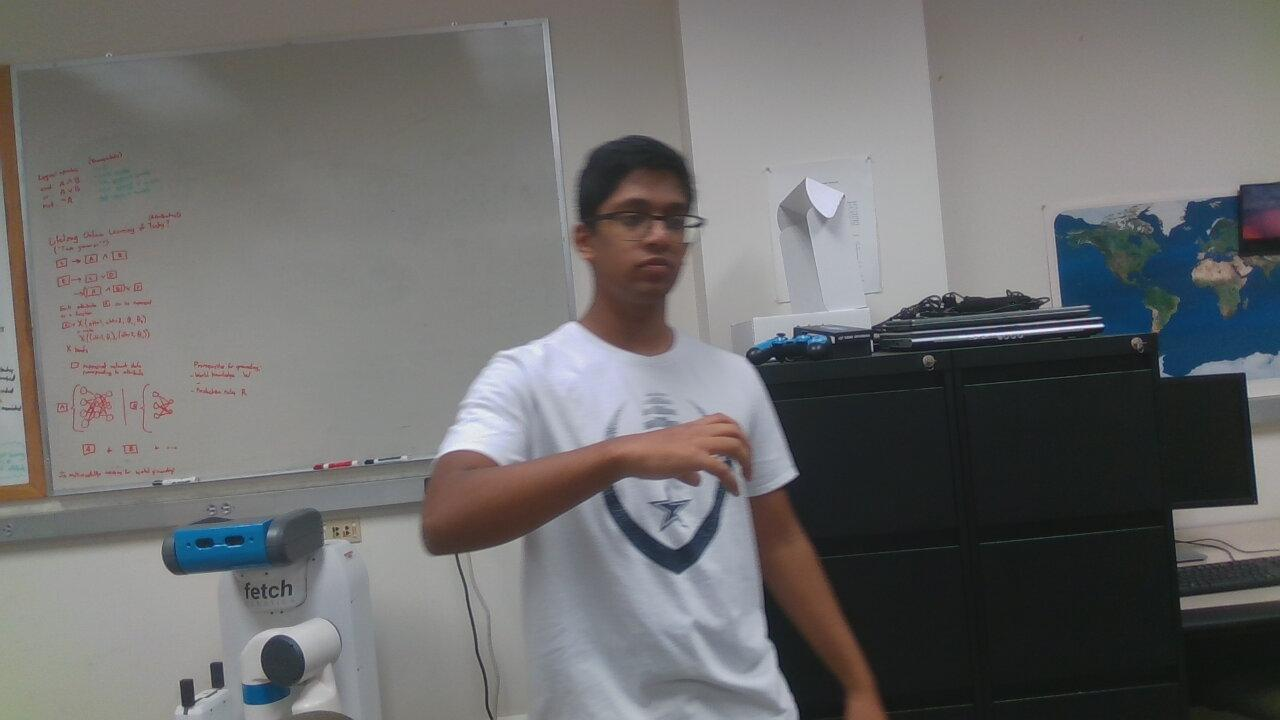hands: (608, 395, 792, 520)
